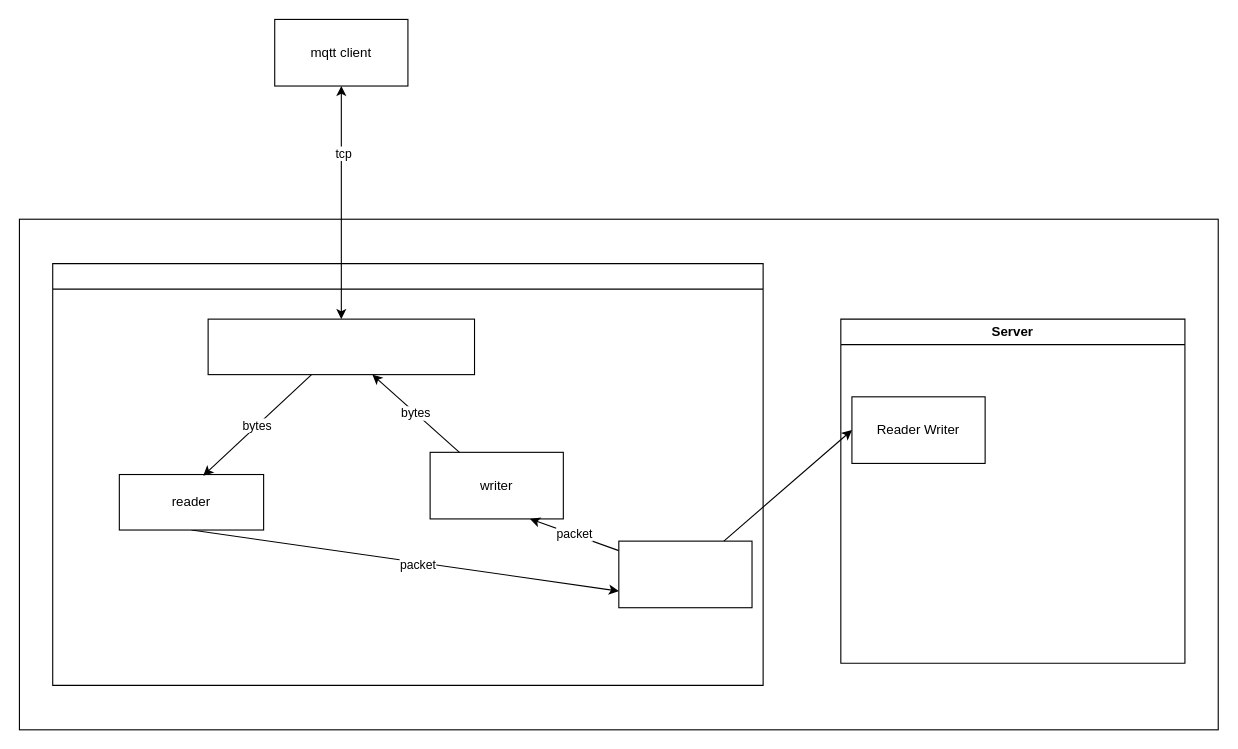
The diagram is 1238 pixels wide and 749 high, and some of its shapes have lost their labels. Each missing label, with the box of its shape:
channel: (618, 540, 752, 608)
Client: (52, 263, 763, 685)
conn (unbounded bytes stream): (207, 318, 475, 375)
